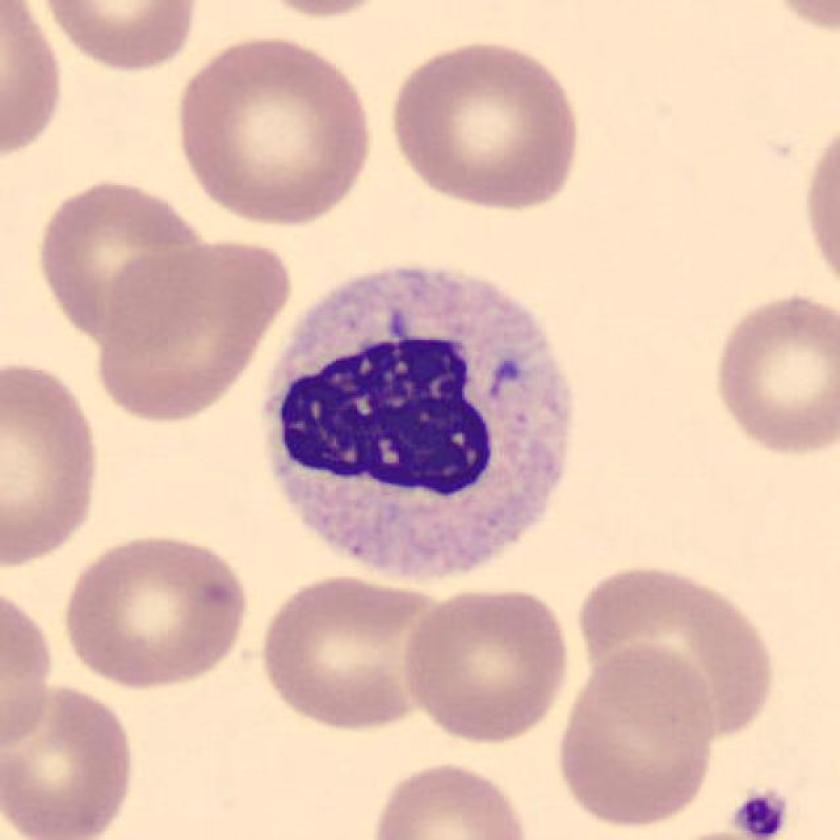neutrophil: (264, 269, 571, 577)
